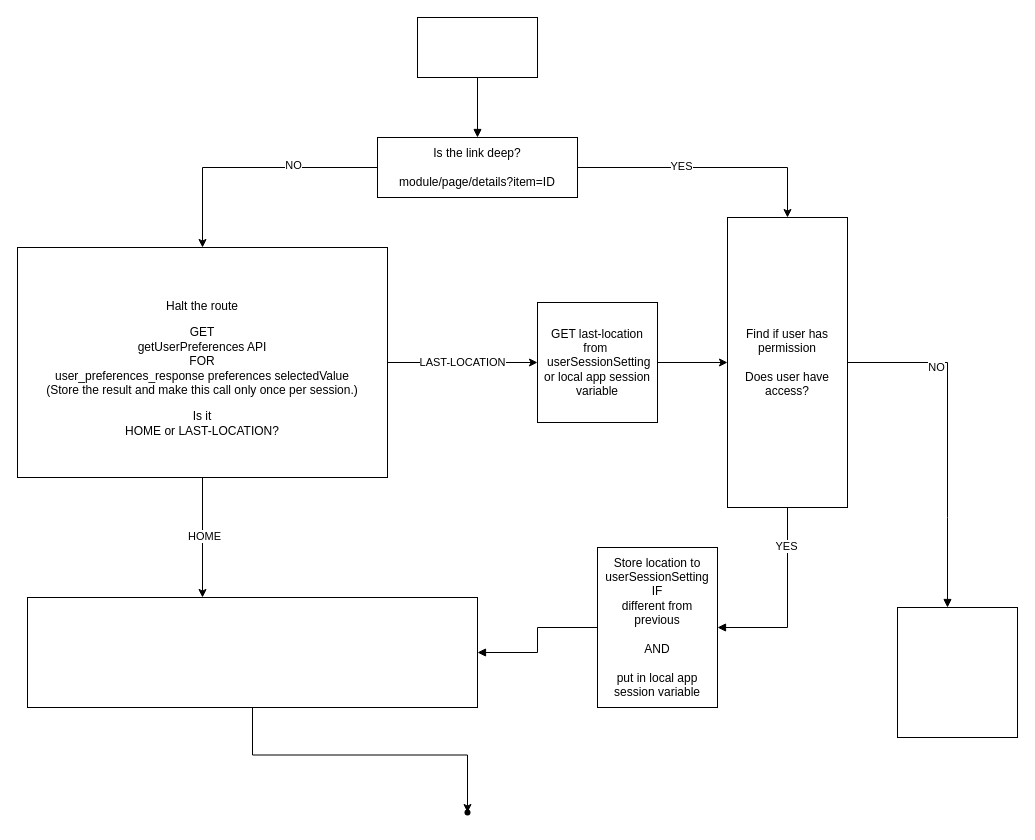
The diagram is 1035 pixels wide and 840 high, and some of its shapes have lost their labels. Here are the shapes that lost their labels. From the top down, the box of each, then its label:
(416, 16, 538, 78): Any Route occurs (During app, from email, from bookmark, typed in)
(26, 596, 478, 708): Route to url
(896, 606, 1018, 738): Route to no-access page? Show No Access message? Route to home?
